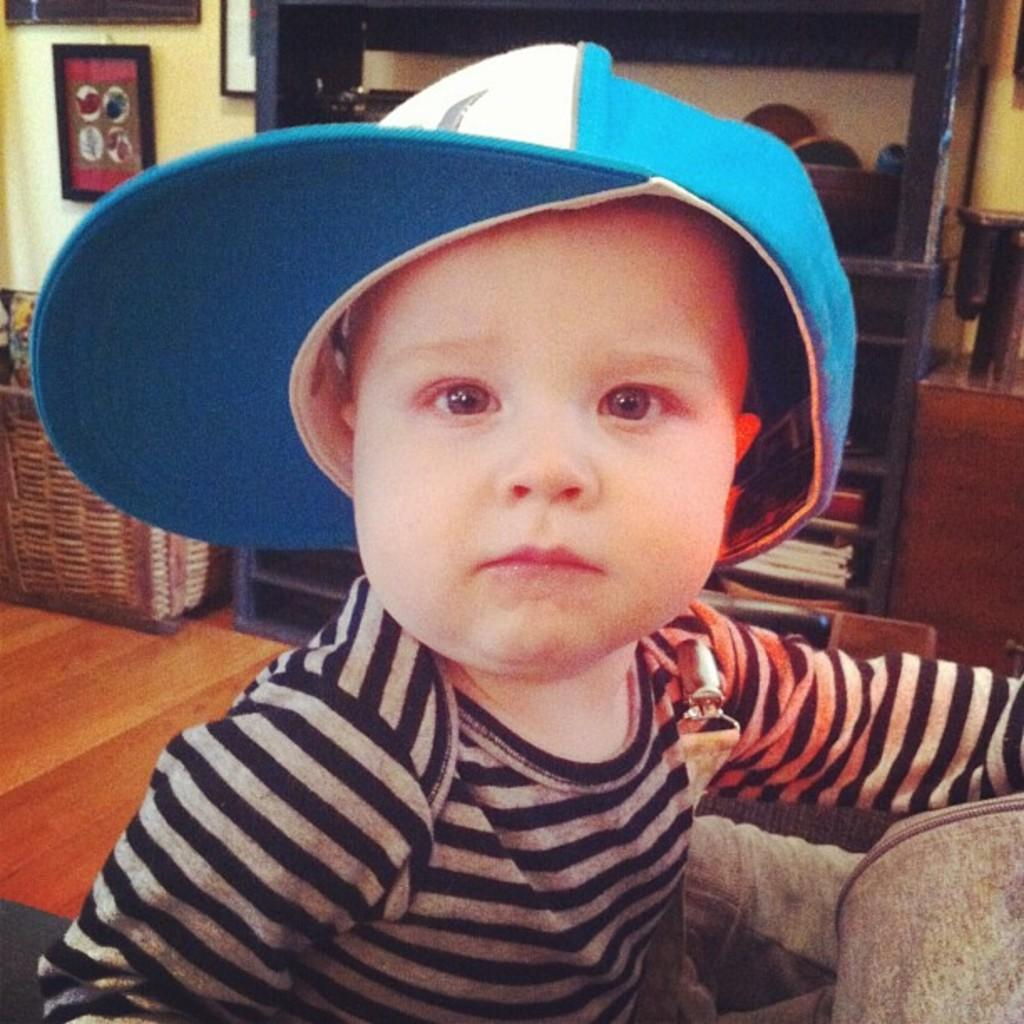Hat: (31, 32, 863, 568)
